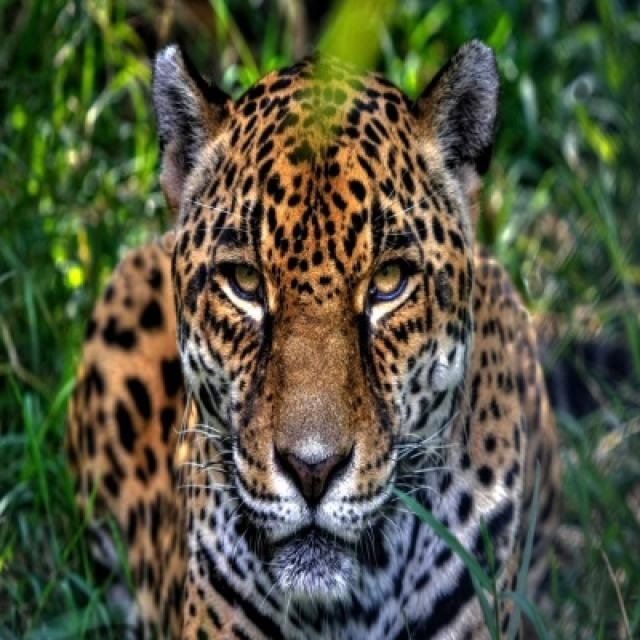Jaguar: (62, 40, 563, 638)
